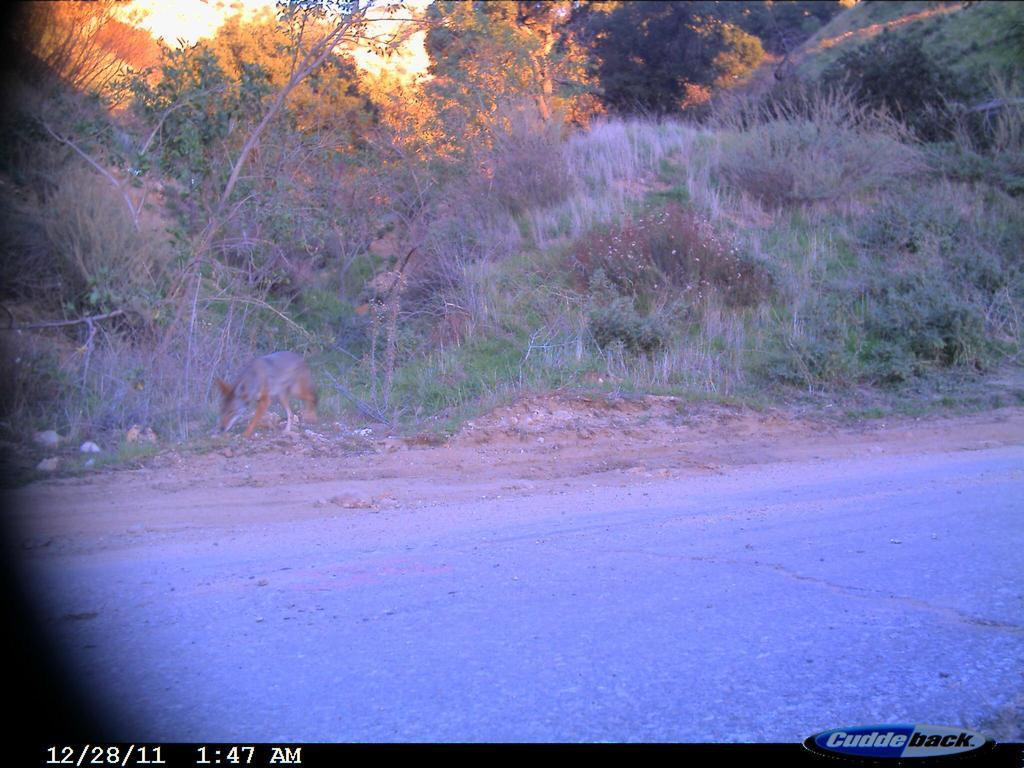coyote: (198, 341, 329, 445)
